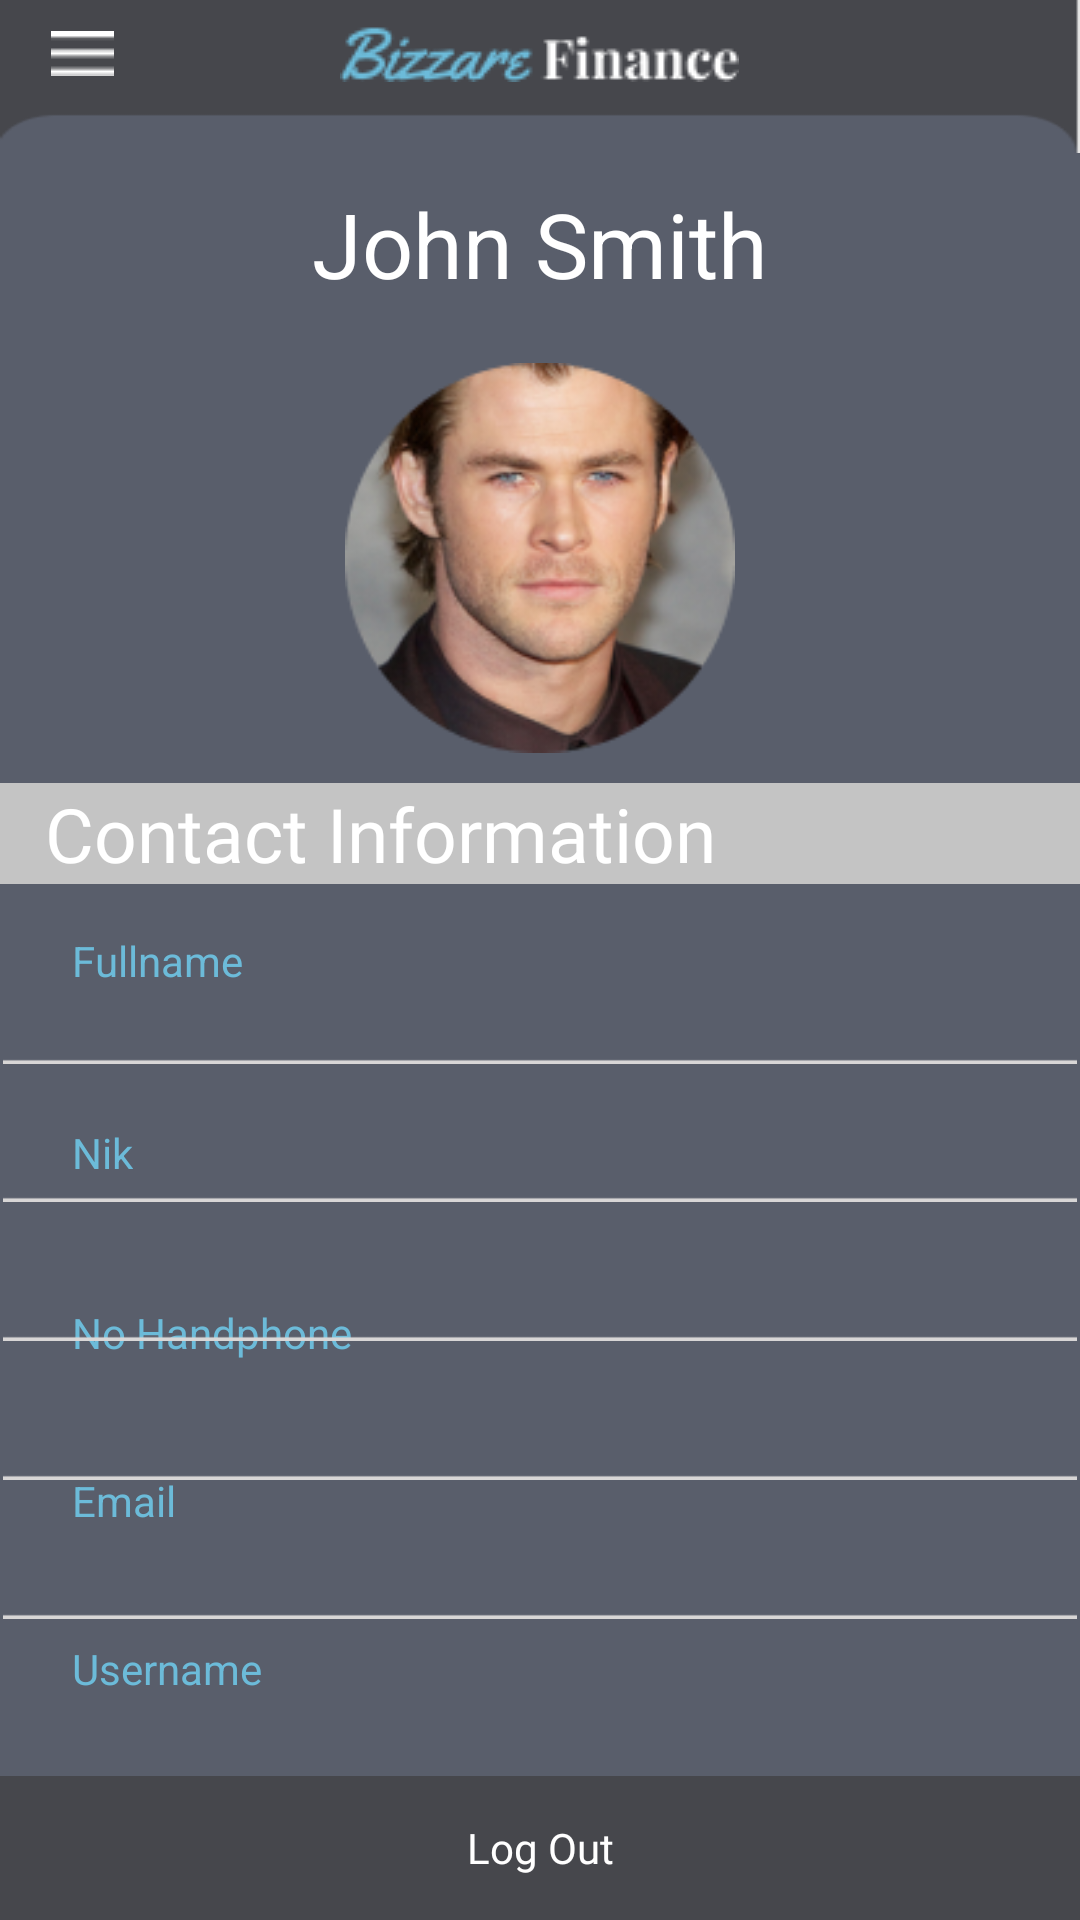

Screen size 1080 x 1920. Icon name, then its box in pixels as (x1, y1, x2, y2):
menu: (51, 31, 114, 76)
